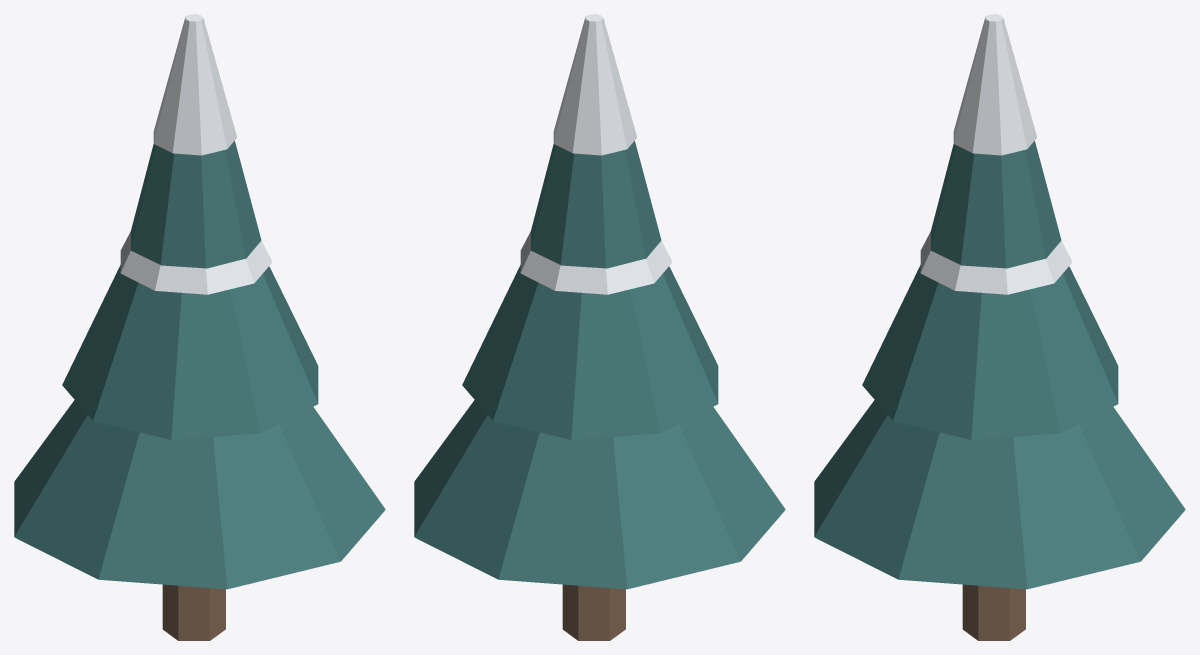
Rendered from pine_b.glb.
3 renders of one model, left to right at view 1: azimuth 30°, elevation 25°; view 2: azimuth 150°, elevation 25°; view 3: azimuth 270°, elevation 25°, orthographic.
Visible parts, largest first — view 1: pine_b_mesh; view 2: pine_b_mesh; view 3: pine_b_mesh.
Boxes of the visible parts, bbox=[...] form: pine_b_mesh: bbox=[14, 14, 385, 640]; pine_b_mesh: bbox=[414, 14, 785, 640]; pine_b_mesh: bbox=[814, 14, 1185, 640].
Size of the model in its own units: 2.14 by 3.83 by 2.11.
